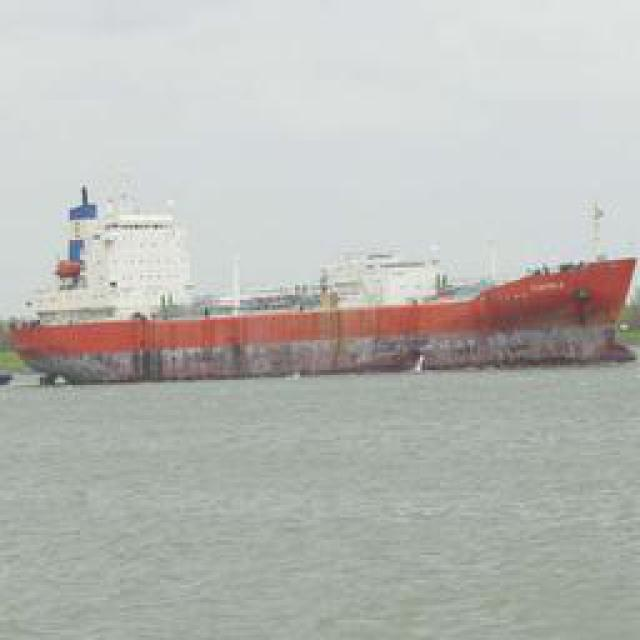Ship: (5, 184, 635, 390)
